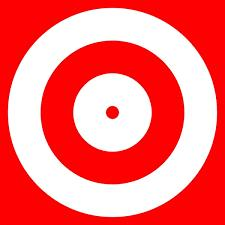target_red: (7, 6, 217, 217)
